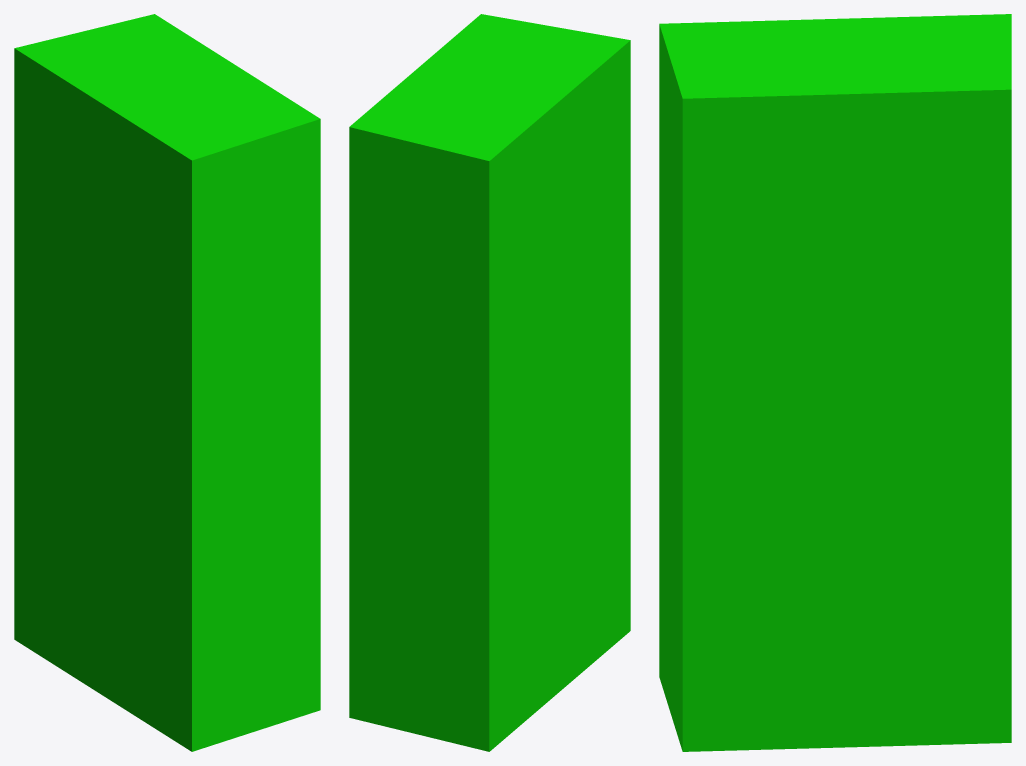
The picture shows the model from 3 angles, left to right: view 1: azimuth 30°, elevation 25°; view 2: azimuth 150°, elevation 25°; view 3: azimuth 270°, elevation 25°; orthographic projection. The views are drawn at different scales.
Parts seen in each view (by area): view 1: Circle.003; view 2: Circle.003; view 3: Circle.003.
Part boxes in pixels (x1=…): Circle.003: x1=14, y1=14, x2=320, y2=751; Circle.003: x1=349, y1=14, x2=630, y2=751; Circle.003: x1=659, y1=14, x2=1011, y2=751.
Bounding box in the file's own units: 569 × 2044 × 999.
